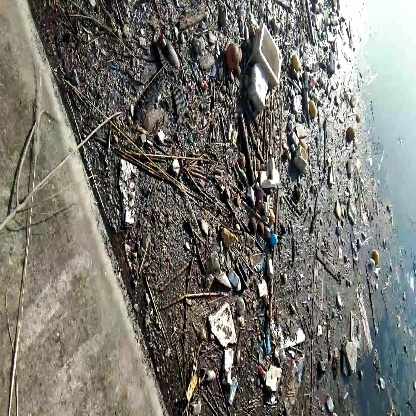branch: (114, 135, 199, 186)
plastic-garbage: (243, 19, 284, 117)
